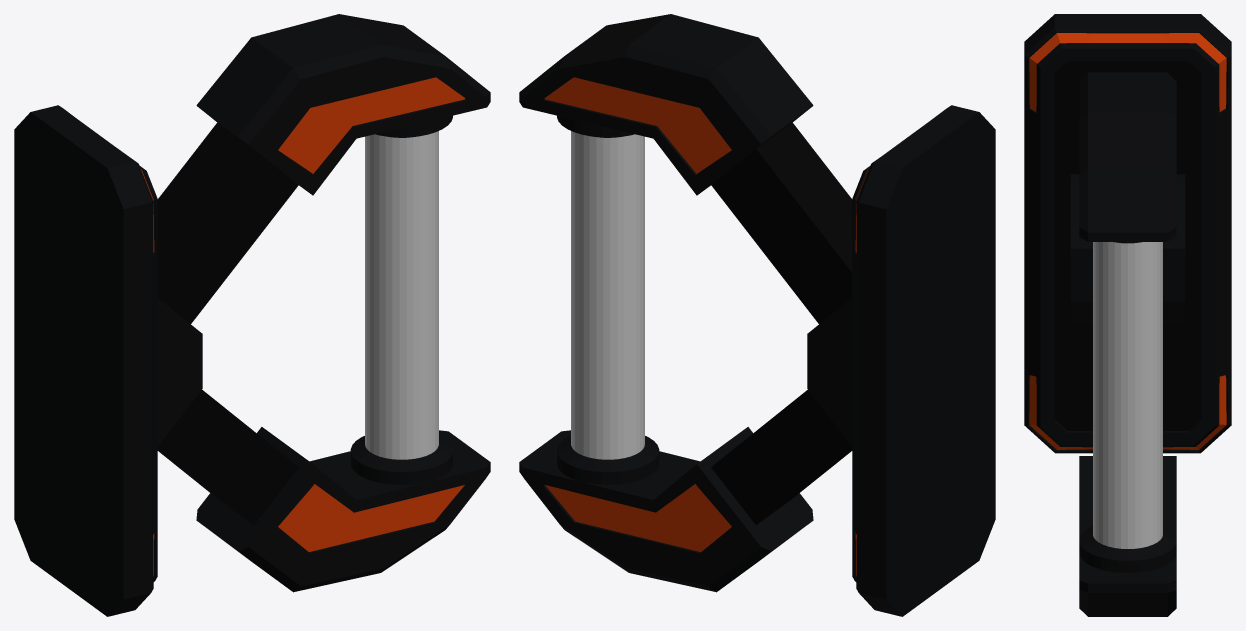
File: SM_Light.obj
3 renders of one model, left to right at view 1: azimuth 30°, elevation 25°; view 2: azimuth 150°, elevation 25°; view 3: azimuth 270°, elevation 25°, orthographic. The views are drawn at different scales.
Parts seen in each view (by area): view 1: SM_Light; view 2: SM_Light; view 3: SM_Light.
Boxes of the visible parts, box(x1,y1,x2,y2) form: SM_Light: box(14, 14, 490, 616); SM_Light: box(519, 14, 995, 616); SM_Light: box(1024, 14, 1231, 616).
Bounding box in the file's own units: 0.4671 × 0.5886 × 0.2204.
